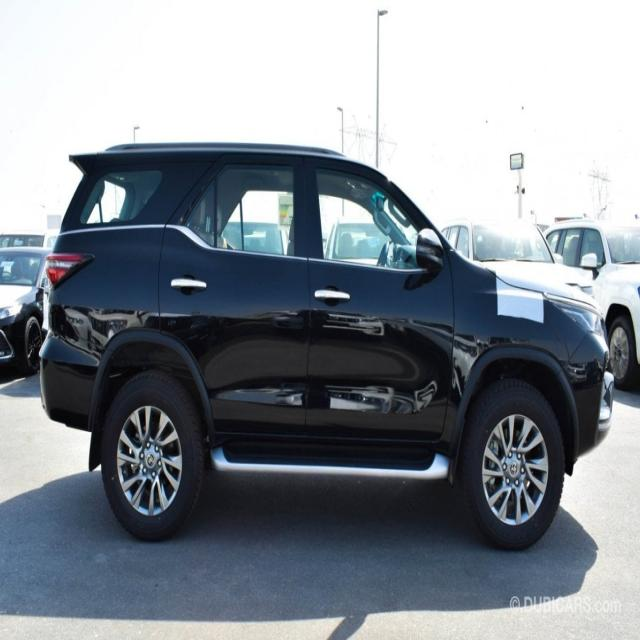light_vehicle: (38, 142, 613, 552)
